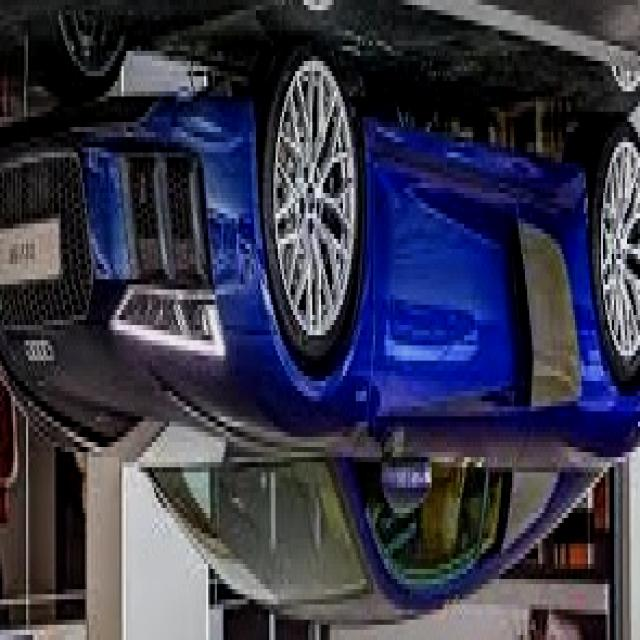blue: (0, 57, 640, 635)
